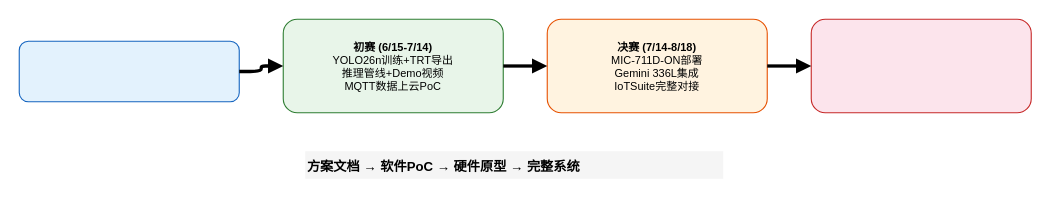
Image size: 1051x198. Some labels were removed from this diagram. The box of each missing label's shape, as (x1, y1, x2, y2) in pixels:
书审 (5/15-6/15) 技术方案文档+PPT: (18, 40, 239, 102)
总决赛 (8/18-9/19) DeepStream多路优化 AgentBuilder AI Agent Dashboard美化+稳定性: (810, 18, 1031, 113)
